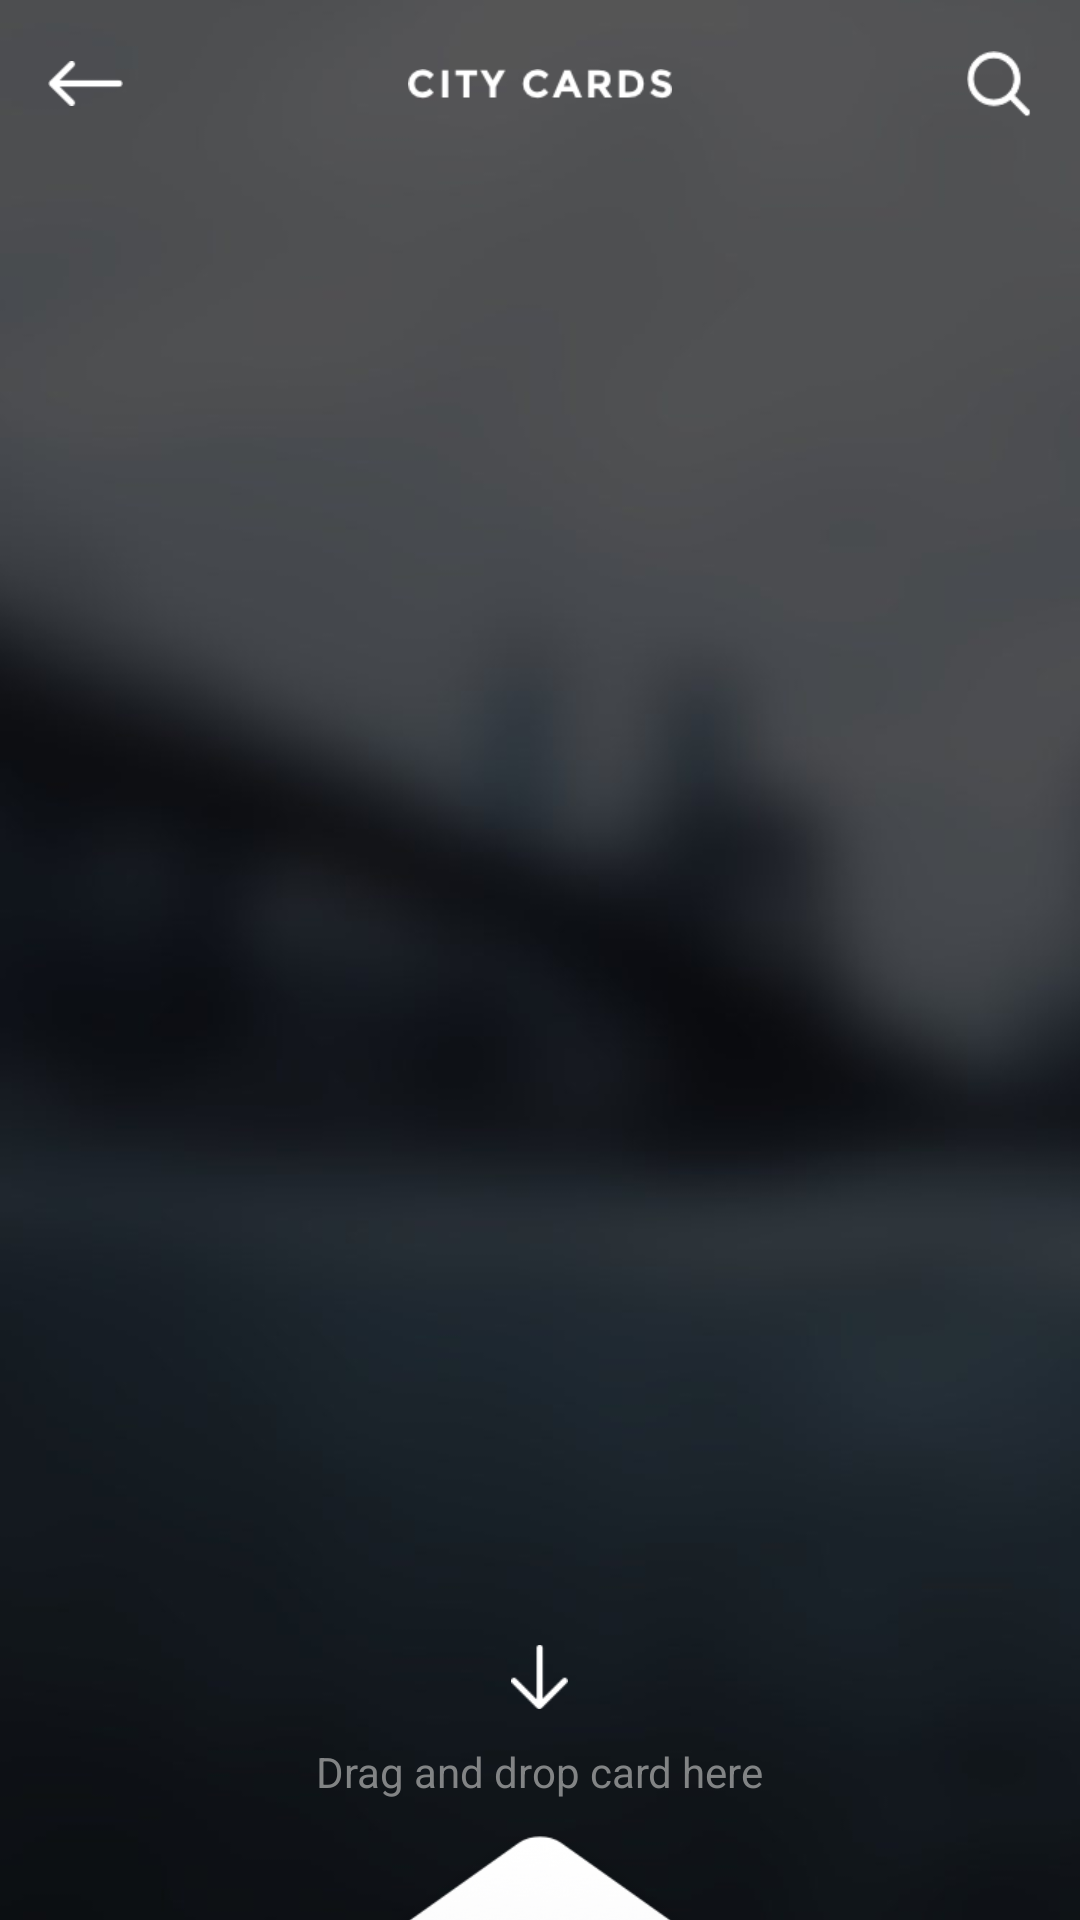

Icons on this 1080x1920 Android screen, each with its box as (x1, y1, x2, y2):
fst day back: (48, 61, 123, 106)
fst day down: (511, 1645, 568, 1709)
fst day search: (967, 51, 1030, 116)
